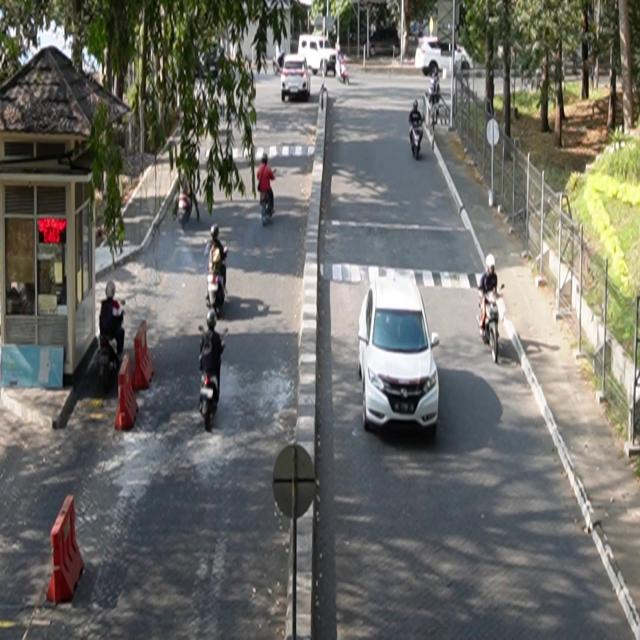car: (359, 272, 441, 436), (282, 55, 312, 103)
